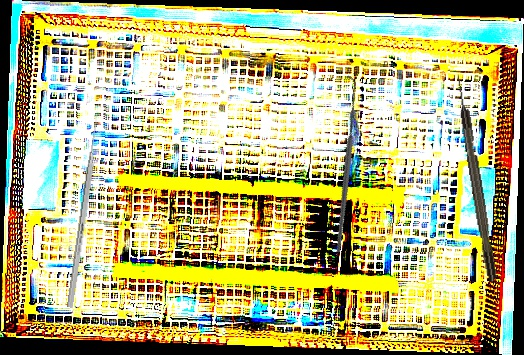Hook Surgical: (260, 74, 427, 254), (453, 72, 498, 283)
Pusher: (66, 110, 102, 309)
